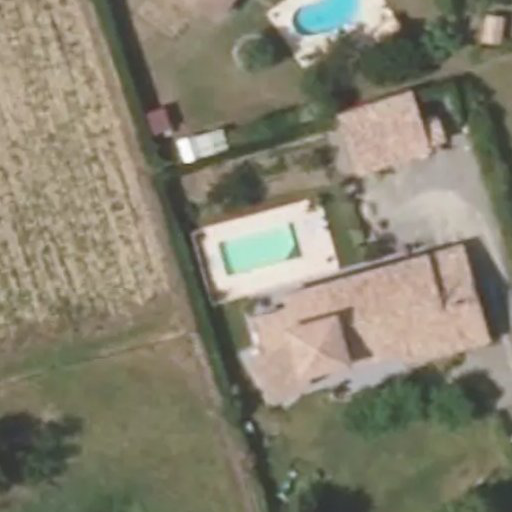pool: (211, 234, 305, 246)
